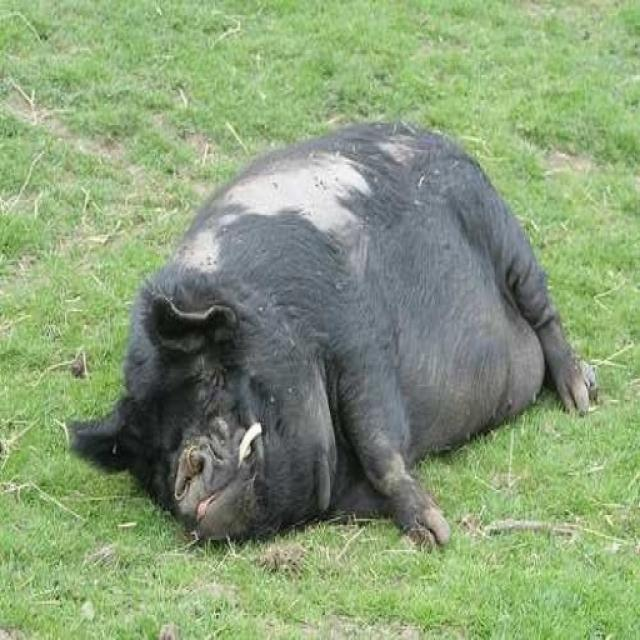pig: (56, 87, 638, 578)
